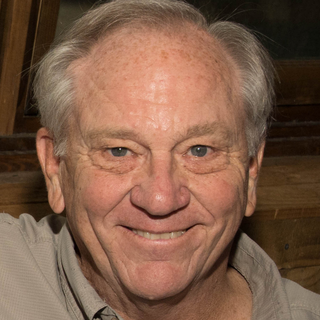eye: (90, 134, 145, 167), (177, 134, 225, 169)
